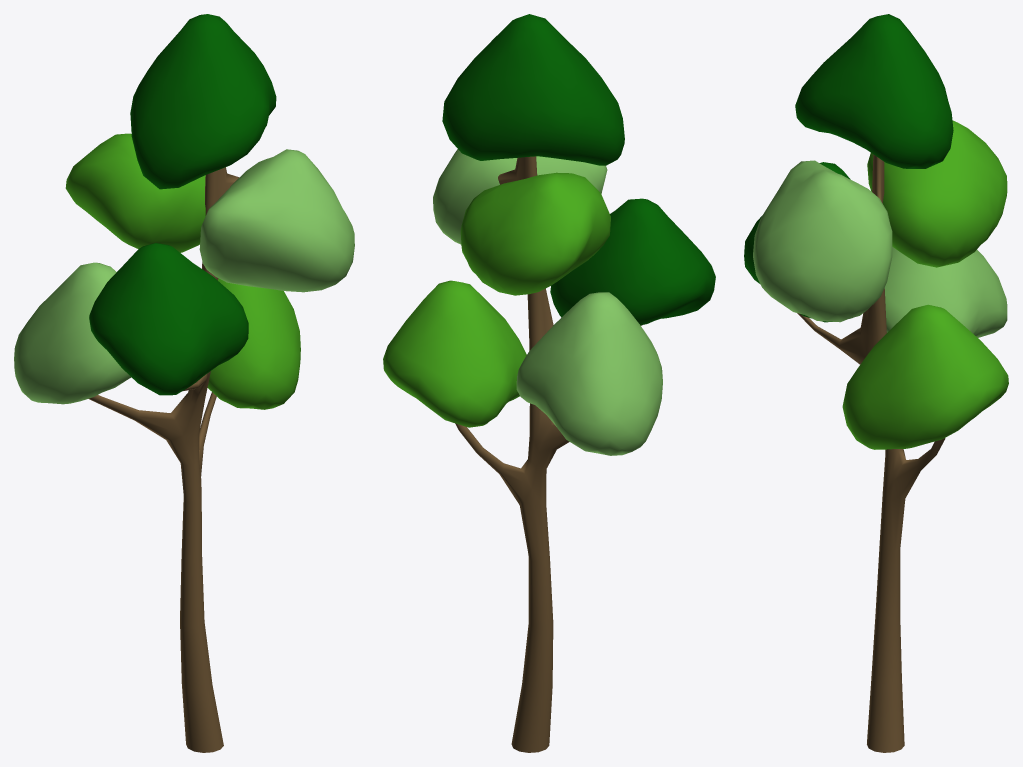
The model's file is Tree_30.fbx.
3 renders of one model, left to right at view 1: azimuth 30°, elevation 25°; view 2: azimuth 150°, elevation 25°; view 3: azimuth 270°, elevation 25°, orthographic.
Visible parts, largest first — view 1: Tree_30; view 2: Tree_30; view 3: Tree_30.
Boxes of the visible parts, box(x1,y1,x2,y2) form: Tree_30: box(14, 14, 354, 752); Tree_30: box(383, 14, 715, 752); Tree_30: box(744, 14, 1008, 752).
Bounding box in the file's own units: 234 × 620 × 204.
